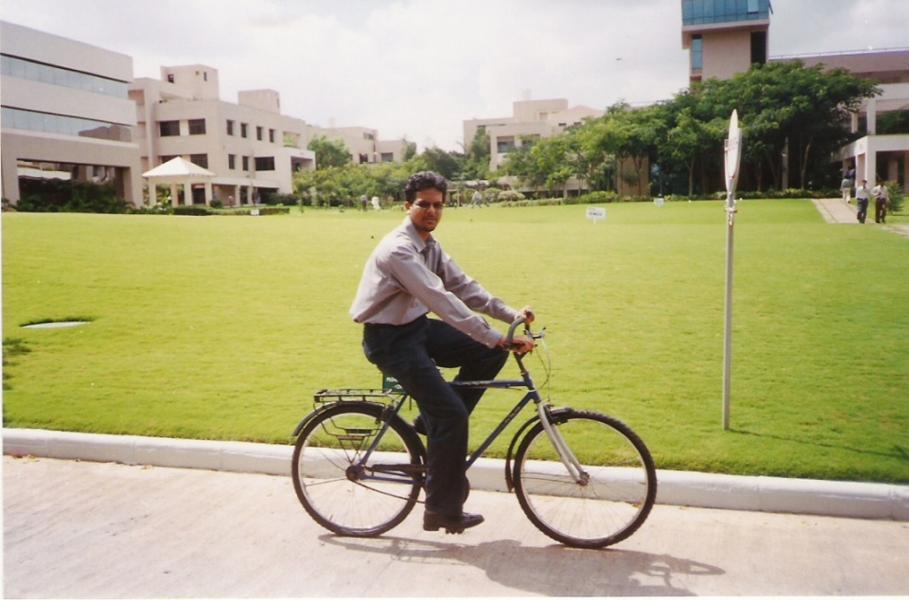person: (349, 169, 536, 538)
